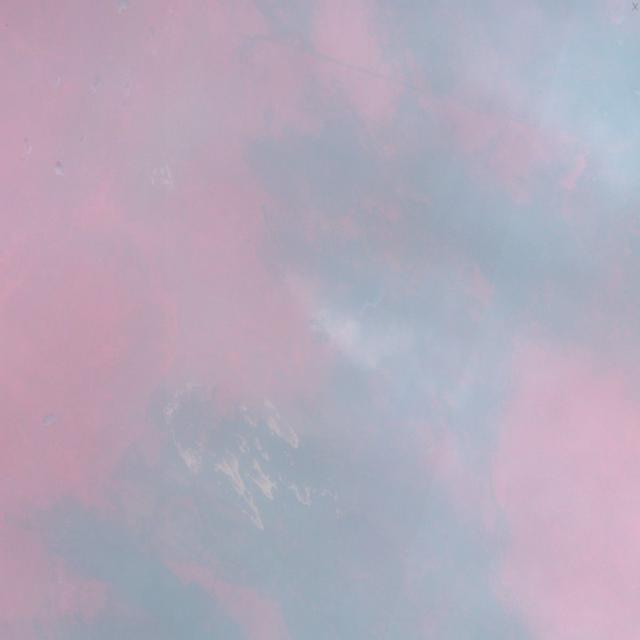fire: (159, 360, 338, 538), (263, 245, 341, 344), (145, 155, 184, 205)
